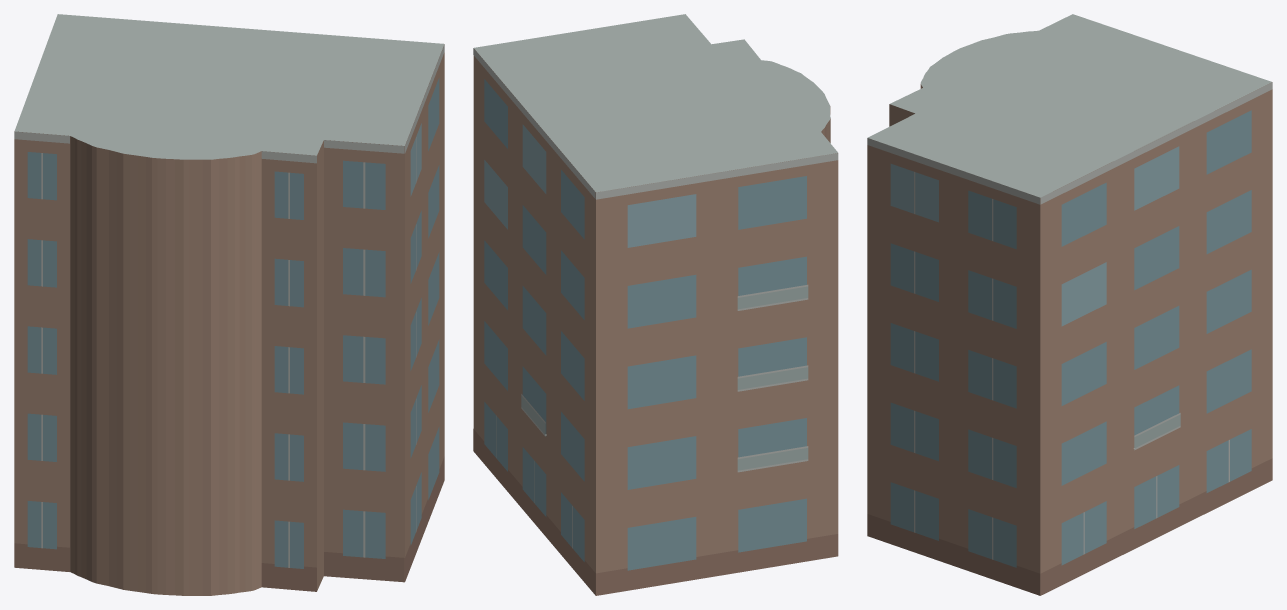
The model's file is survey-upis-32668475.glb.
The picture shows the model from 3 angles, left to right: view 1: azimuth 30°, elevation 25°; view 2: azimuth 150°, elevation 25°; view 3: azimuth 270°, elevation 25°; orthographic projection. The views are drawn at different scales.
Parts seen in each view (by area): view 1: survey-upis-32668475.tmp; view 2: survey-upis-32668475.tmp; view 3: survey-upis-32668475.tmp.
Part boxes in pixels (bbox=[...]): survey-upis-32668475.tmp: bbox=[14, 14, 444, 595]; survey-upis-32668475.tmp: bbox=[473, 14, 838, 595]; survey-upis-32668475.tmp: bbox=[867, 14, 1272, 595].
Size of the model in its own units: 13.56 by 13.7 by 12.65.
